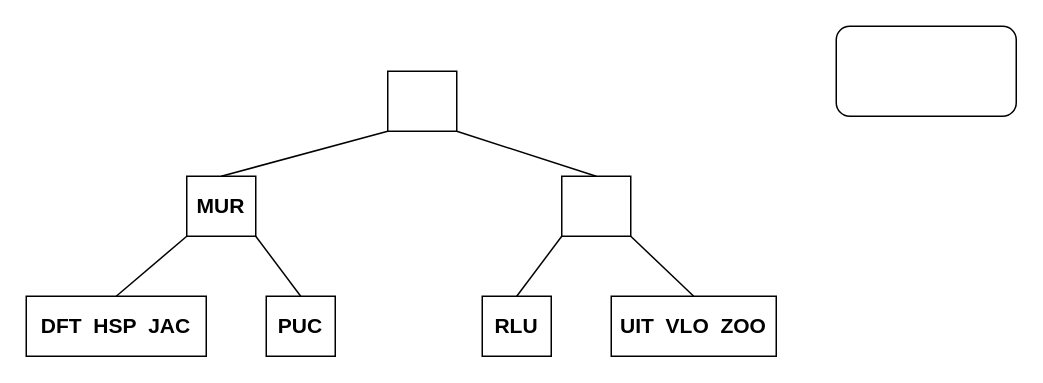
Image size: 1043x383. Some labels were removed from this diagram. The shapes that lost their labels are listed below. From the top down, each one's centre as x and y in pixels, then its label:
At point (925, 70): "inserir HSP".
At point (421, 100): "QWE".
At point (595, 205): "TAU".
